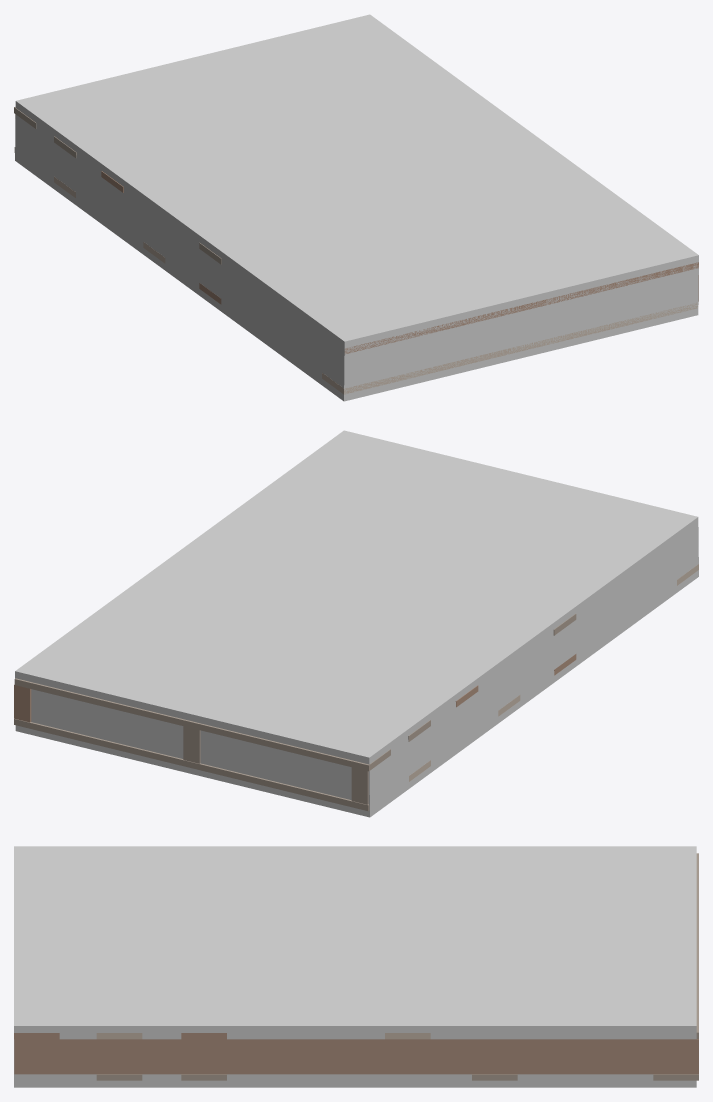
File: pallet.dae
3 renders of one model, top to bottom at view 1: azimuth 30°, elevation 25°; view 2: azimuth 150°, elevation 25°; view 3: azimuth 270°, elevation 25°, orthographic. The views are drawn at different scales.
Parts seen in each view (by area): view 1: Colmesh-1, pallet_a025, pallet_a200; view 2: Colmesh-1, pallet_a025, pallet_a200, pallet_a050; view 3: Colmesh-1, pallet_a200, pallet_a025, pallet_a050.
Part boxes in pixels (x1,y1,x2,y2): Colmesh-1: (15, 14, 698, 401); pallet_a025: (15, 131, 698, 393); pallet_a200: (14, 107, 698, 394); Colmesh-1: (15, 430, 698, 817); pallet_a025: (15, 547, 698, 810); pallet_a200: (14, 564, 698, 811); pallet_a050: (15, 613, 575, 802); Colmesh-1: (14, 846, 696, 1087); pallet_a200: (14, 1032, 698, 1080); pallet_a025: (14, 1033, 696, 1056); pallet_a050: (696, 853, 698, 1032).
Size of the model in its own units: 1.1 by 1.77 by 0.1773.
